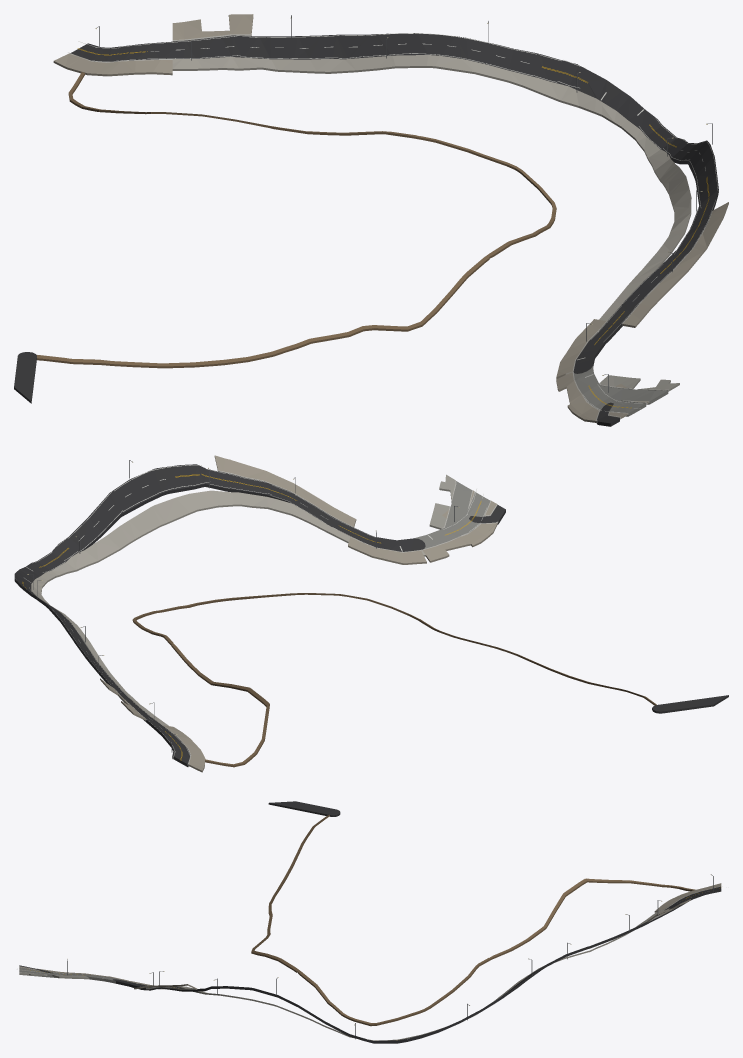
3 renders of one model, top to bottom at view 1: azimuth 30°, elevation 25°; view 2: azimuth 150°, elevation 25°; view 3: azimuth 270°, elevation 25°, orthographic. The views are drawn at different scales.
Size of the model in its own units: 265 by 44.99 by 297.
